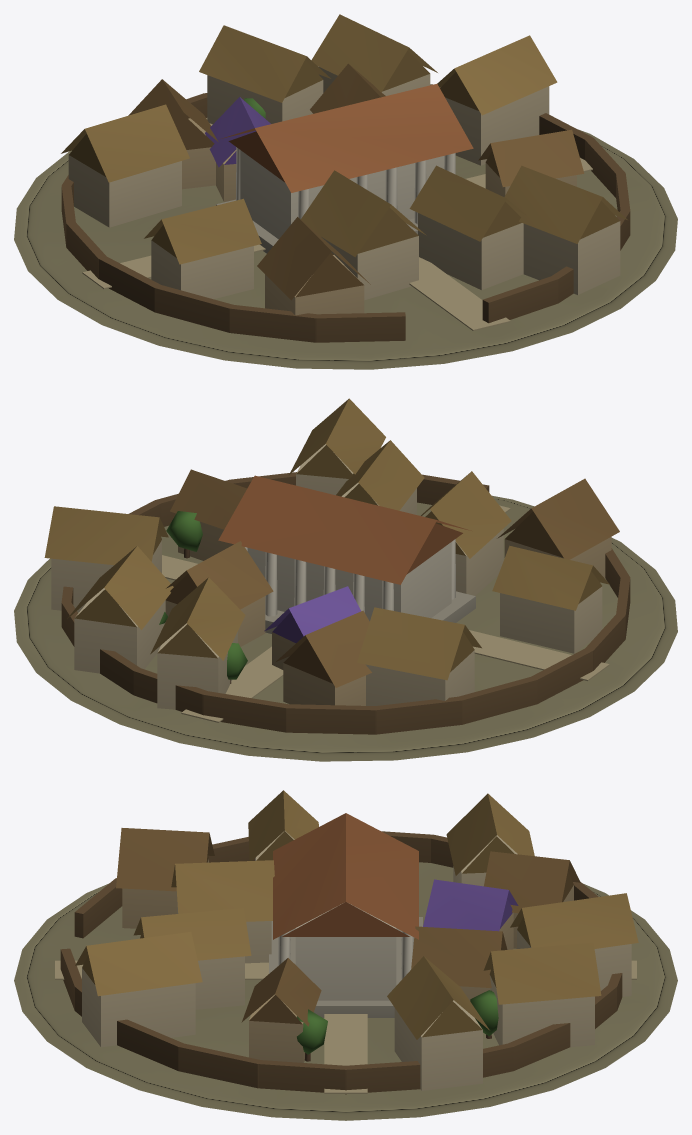
Rendered from settlement_2_1.glb.
3 renders of one model, top to bottom at view 1: azimuth 30°, elevation 25°; view 2: azimuth 150°, elevation 25°; view 3: azimuth 270°, elevation 25°, orthographic.
Parts seen in each view (by area): view 1: part_0; view 2: part_0; view 3: part_0.
Boxes of the visible parts, x1,y1,x2,y2 form: part_0: (14, 14, 677, 369); part_0: (14, 398, 677, 761); part_0: (14, 790, 677, 1120).
Size of the model in its own units: 30.8 by 6.31 by 30.8.
